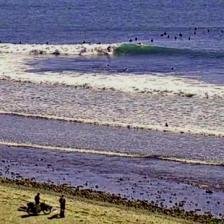surfer: (106, 46, 110, 50), (82, 40, 86, 44), (122, 68, 127, 71), (165, 123, 168, 127), (164, 32, 167, 35), (171, 67, 174, 70), (129, 39, 132, 42), (151, 38, 153, 42), (137, 43, 141, 45), (97, 42, 101, 44), (221, 30, 224, 32), (208, 29, 210, 32), (195, 28, 197, 31), (194, 31, 196, 34), (188, 37, 190, 40), (180, 33, 182, 36), (175, 36, 177, 39), (160, 34, 163, 36), (135, 37, 137, 40), (46, 41, 48, 44), (89, 41, 91, 44), (20, 41, 22, 44), (168, 36, 170, 38), (107, 64, 109, 66)
